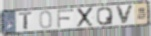0: (39, 10, 54, 30)
F: (57, 8, 75, 29)
Q: (96, 6, 114, 26)
T: (19, 11, 34, 31)
V: (115, 5, 135, 25)
X: (76, 6, 95, 28)
